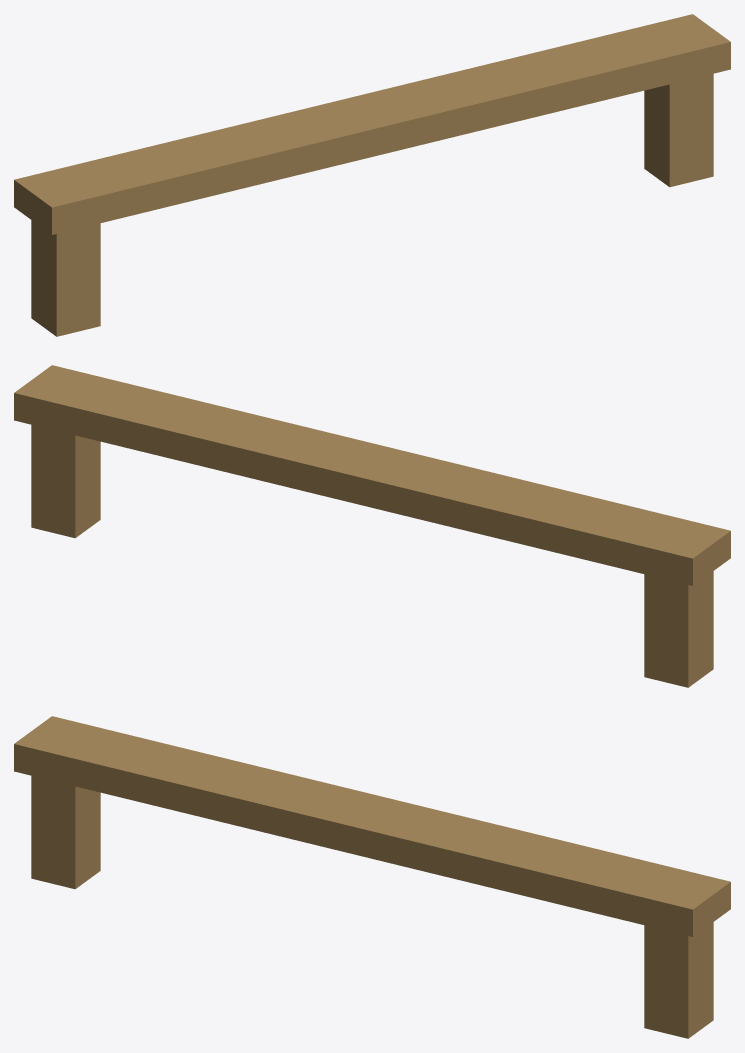
File: naturePack_042.fbx
The picture shows the model from 3 angles, top to bottom: view 1: azimuth 30°, elevation 25°; view 2: azimuth 150°, elevation 25°; view 3: azimuth 330°, elevation 25°; orthographic projection.
Visible parts, largest first — view 1: Mesh1_Group1 Model; view 2: Mesh1_Group1 Model; view 3: Mesh1_Group1 Model.
Boxes of the visible parts, bbox=[...] form: Mesh1_Group1 Model: bbox=[14, 14, 730, 336]; Mesh1_Group1 Model: bbox=[14, 365, 730, 687]; Mesh1_Group1 Model: bbox=[14, 716, 730, 1038].
Size of the model in its own units: 3.1 by 0.596 by 0.3013.
